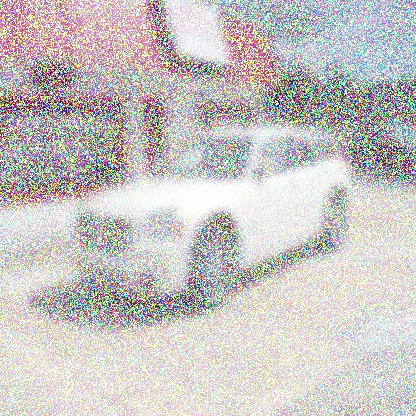Vehicle: (71, 124, 355, 320)
